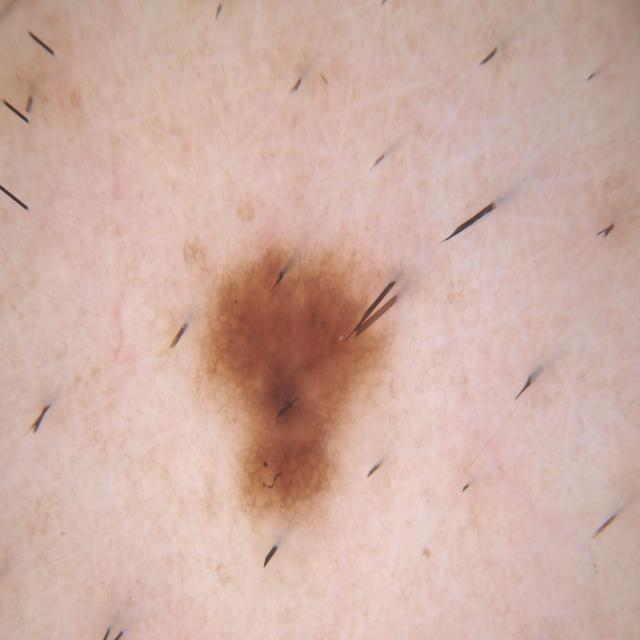Melanoma: (203, 182, 456, 611)
